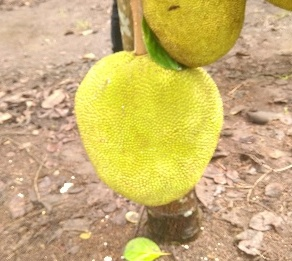Mit: (75, 52, 222, 205)
